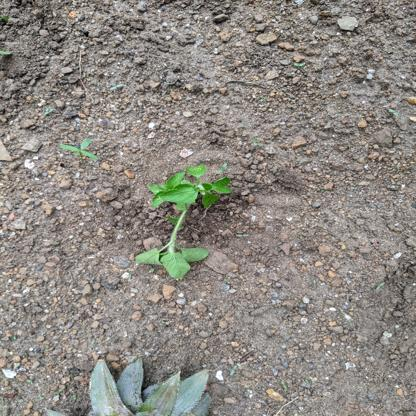pineapple: (85, 355, 217, 416)
weed: (134, 163, 236, 279), (56, 135, 104, 166)
